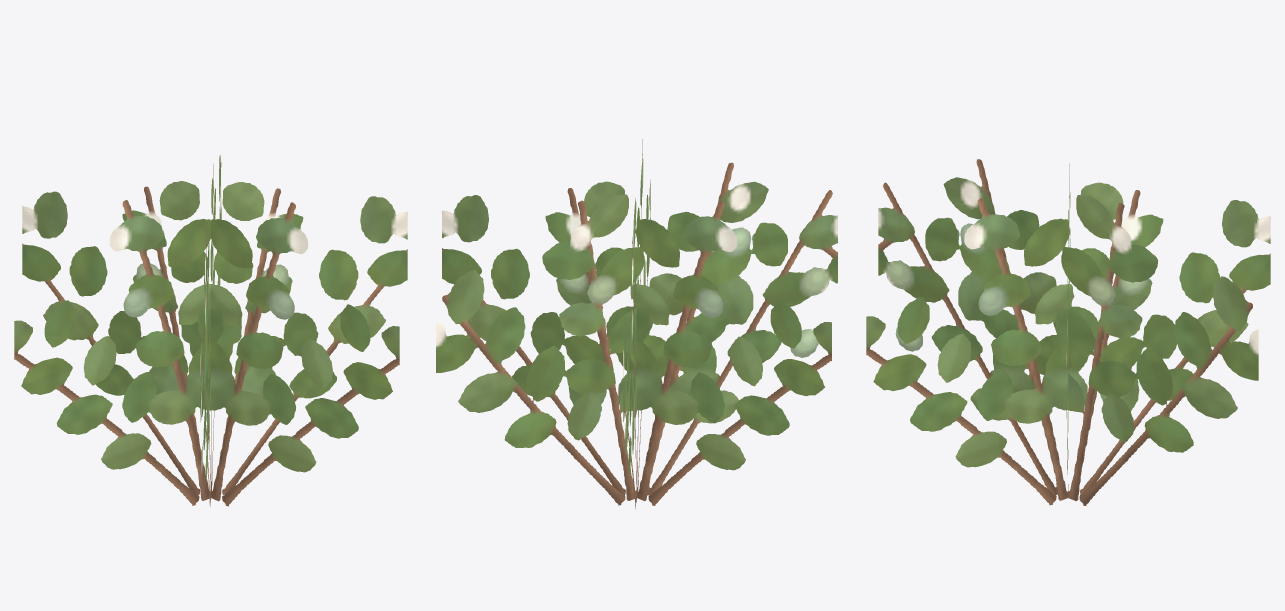
Rendered from crop_blueberry_2.glb.
3 renders of one model, left to right at view 1: azimuth 30°, elevation 25°; view 2: azimuth 150°, elevation 25°; view 3: azimuth 270°, elevation 25°, orthographic.
Parts seen in each view (by area): view 1: crop_blueberry_2; view 2: crop_blueberry_2; view 3: crop_blueberry_2.
Part boxes in pixels (x1,y1,x2,y2): crop_blueberry_2: (14, 155, 407, 506); crop_blueberry_2: (436, 139, 837, 509); crop_blueberry_2: (866, 159, 1270, 505).
Size of the model in its own units: 0.46 by 0.44 by 0.4115.
Materials: 1 (1 with a texture image).
